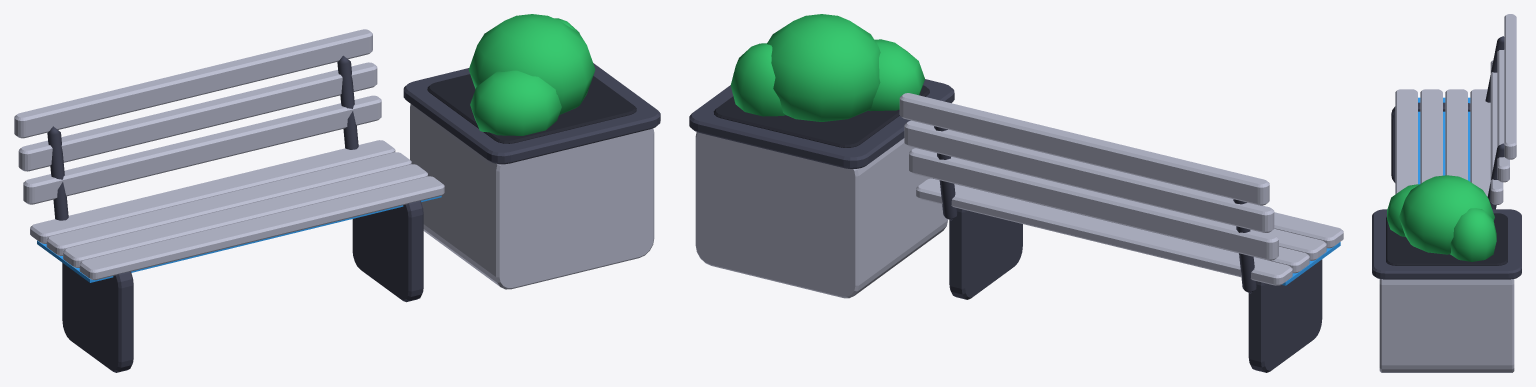
The model's file is bench_planter.glb.
The picture shows the model from 3 angles, left to right: view 1: azimuth 30°, elevation 25°; view 2: azimuth 150°, elevation 25°; view 3: azimuth 270°, elevation 25°; orthographic projection. The views are drawn at different scales.
Parts seen in each view (by area): view 1: planter_body, bench_back_slat_2, bench_back_slat_0, bench_back_slat_1, bench_slat_3, planter_shrub_a, planter_rim, bench_slat_1, bench_slat_2, bench_slat_0, bench_leg_0, bench_leg_1 (+5 smaller); view 2: planter_body, bench_back_slat_2, planter_shrub_a, bench_back_slat_1, bench_back_slat_0, bench_slat_0, bench_leg_0, planter_rim, bench_leg_1, planter_soil, planter_shrub_c, planter_shrub_b (+5 smaller); view 3: planter_body, planter_shrub_a, planter_rim, planter_soil, bench_slat_3, bench_slat_2, bench_slat_0, bench_slat_1, planter_shrub_c, bench_back_slat_2, bench_back_slat_0, bench_back_slat_1 (+5 smaller).
Boxes of the visible parts, box(x1,y1,x2,y2) form: planter_body: box(410, 104, 654, 289); bench_back_slat_2: box(14, 29, 372, 138); bench_back_slat_0: box(23, 95, 381, 204); bench_back_slat_1: box(18, 62, 377, 171); bench_slat_3: box(79, 176, 444, 279); planter_shrub_a: box(468, 14, 595, 114); planter_rim: box(403, 63, 660, 164); bench_slat_1: box(46, 152, 411, 255); bench_slat_2: box(63, 164, 427, 267); bench_slat_0: box(30, 140, 395, 243); bench_leg_0: box(62, 263, 133, 372); bench_leg_1: box(352, 200, 423, 302); planter_body: box(695, 132, 947, 298); bench_back_slat_2: box(899, 93, 1269, 205); planter_shrub_a: box(767, 14, 880, 121); bench_back_slat_1: box(904, 120, 1274, 232); bench_back_slat_0: box(909, 148, 1278, 260); bench_slat_0: box(916, 178, 1292, 285); bench_leg_0: box(1248, 259, 1322, 372); planter_rim: box(689, 79, 954, 168); bench_leg_1: box(949, 208, 1022, 299); planter_soil: box(713, 85, 929, 147); planter_shrub_c: box(730, 43, 785, 116); planter_shrub_b: box(868, 39, 924, 111); planter_body: box(1379, 279, 1514, 372); planter_shrub_a: box(1399, 175, 1494, 254); planter_rim: box(1372, 209, 1521, 279); planter_soil: box(1386, 213, 1507, 265); bench_slat_3: box(1395, 89, 1417, 194); bench_slat_2: box(1420, 89, 1442, 183); bench_slat_0: box(1470, 89, 1490, 196); bench_slat_1: box(1445, 89, 1467, 180); planter_shrub_c: box(1450, 208, 1496, 261); bench_back_slat_2: box(1504, 14, 1516, 159); bench_back_slat_0: box(1490, 60, 1503, 204); bench_back_slat_1: box(1497, 37, 1509, 182).
Bounding box in the file's own units: 2.55 × 0.9625 × 0.78.
